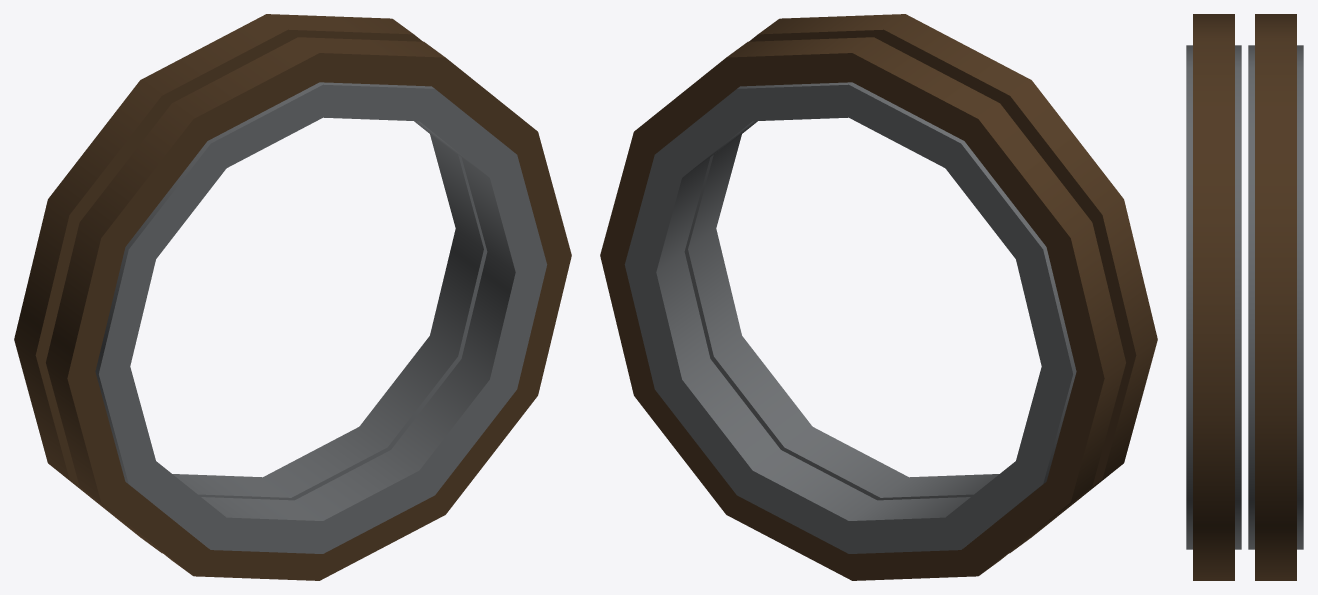
Rendered from u70_coil_ring.obj.
3 renders of one model, left to right at view 1: azimuth 30°, elevation 25°; view 2: azimuth 150°, elevation 25°; view 3: azimuth 270°, elevation 25°, orthographic. The views are drawn at different scales.
Parts seen in each view (by area): view 1: u70_coil_ring; view 2: u70_coil_ring; view 3: u70_coil_ring.
Boxes of the visible parts, left/top/right/bottom form: u70_coil_ring: left=14, top=14, right=571, bottom=580; u70_coil_ring: left=600, top=14, right=1157, bottom=580; u70_coil_ring: left=1186, top=14, right=1303, bottom=580.
Size of the model in its own units: 4.32 by 4.32 by 0.89.
